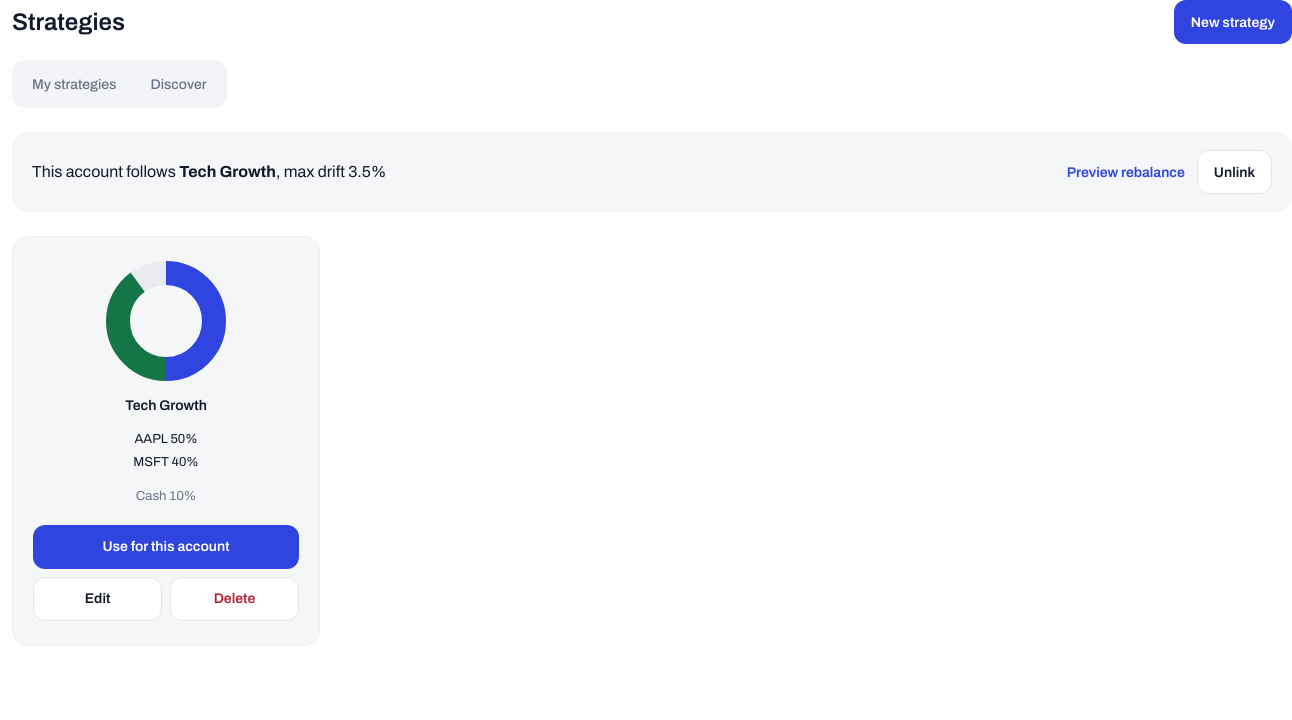
Test: PiesComponent › deletes after confirming
The width and height of the screenshot is (1292, 720).
Click the button "Delete" at (234, 599), box [170,577,299,621]
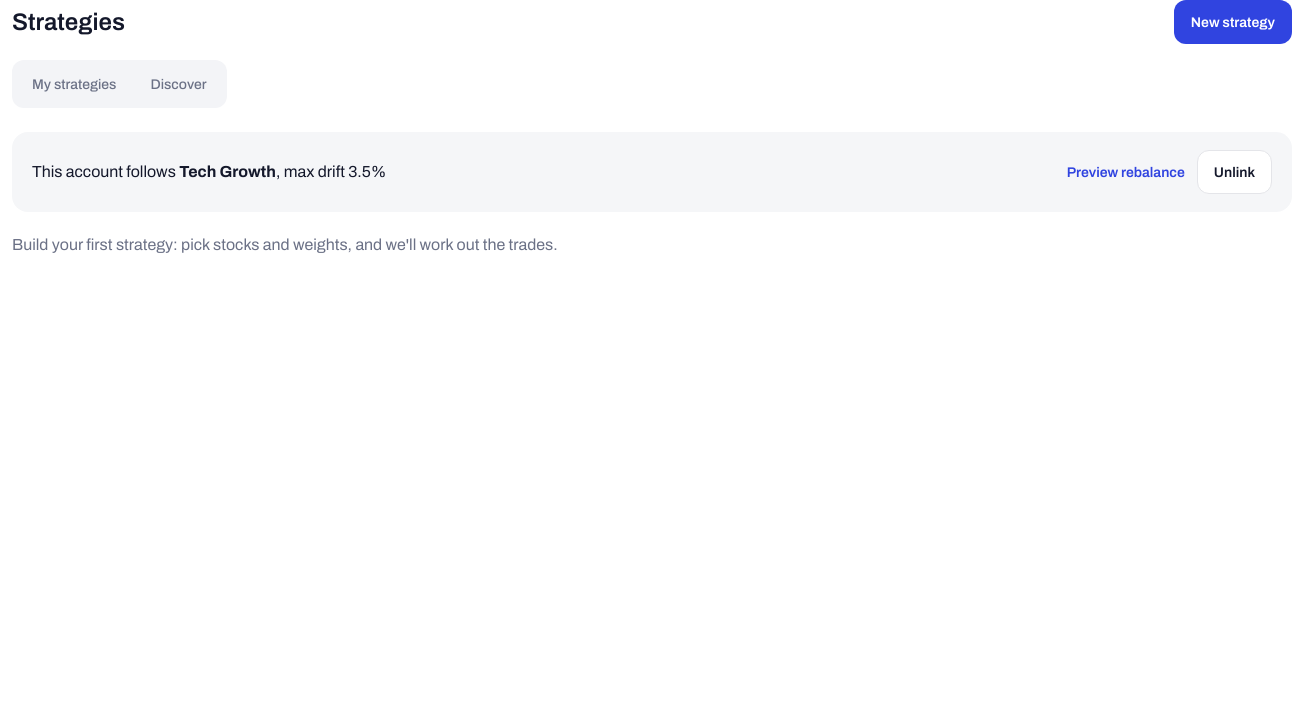
Check: the list item "Tech Growth AAPL 50% MSFT 40% Cash 10% Use for this account Edit Delete" is gone
